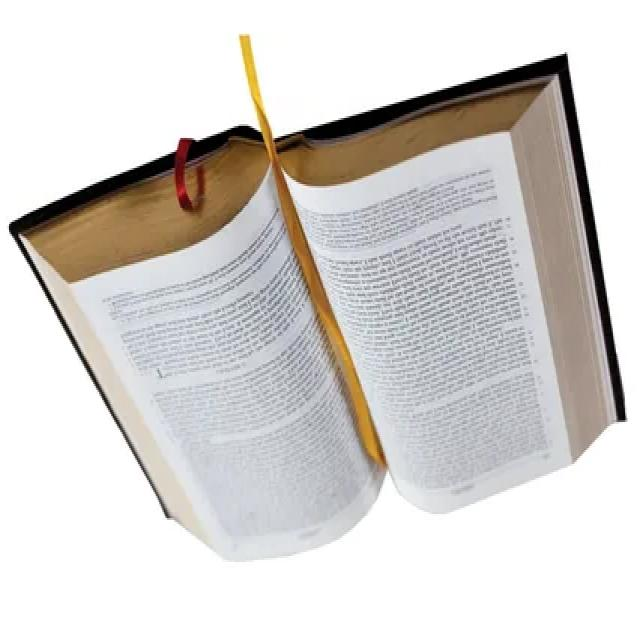book: (1, 49, 640, 602)
